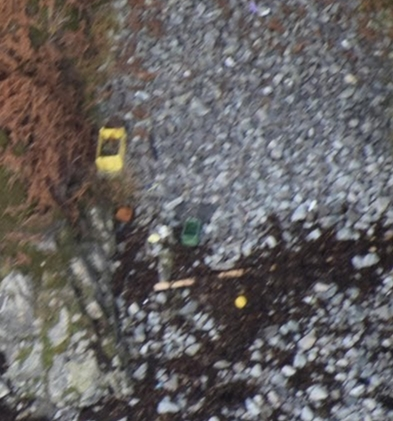scattered_barrel: (109, 190, 266, 316)
straight_bar: (148, 262, 252, 295)
white_in_green: (58, 101, 168, 199)
